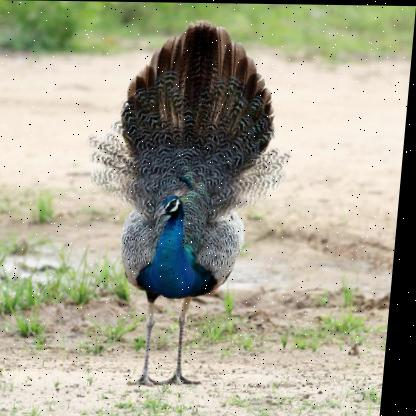Burung: (75, 17, 302, 386)
